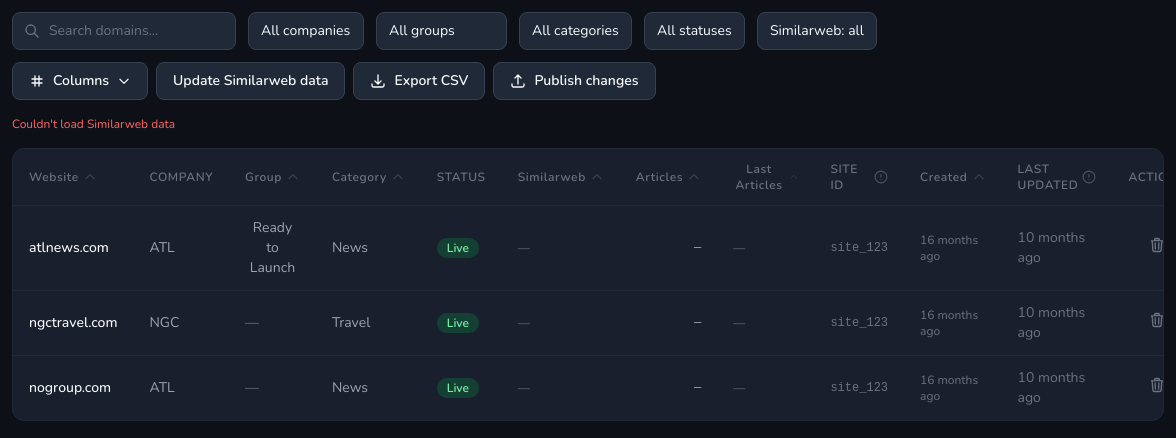
Test case: SitesTable — Group filter and Export CSV › narrows the table to sites in the selected group
expect the text "atlnews.com" is shown: met, box [13,206,134,290]
expect the text "ngctravel.com" is shown: met, box [13,290,134,356]
Select "Ready to Launch" in the dropdown named "Group filter" at {"x": 442, "y": 31}, box [376,12,507,50]
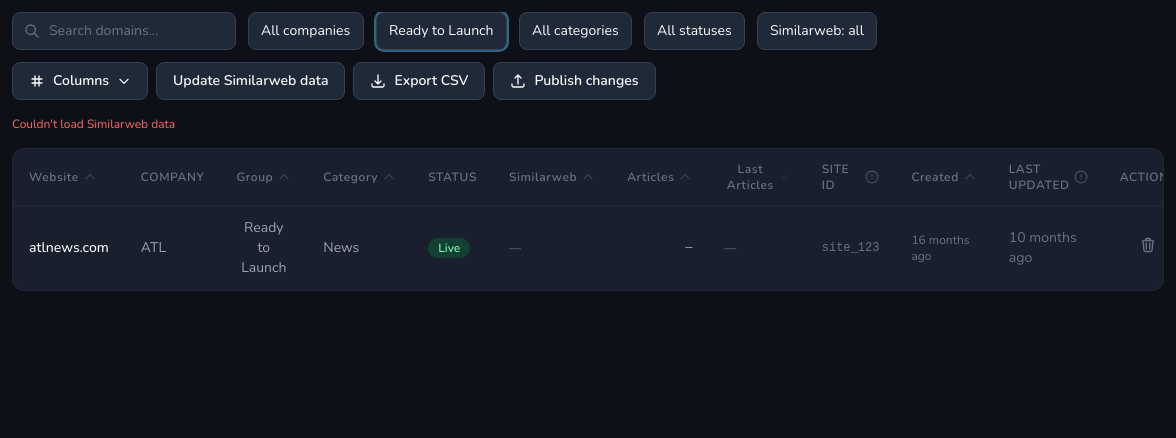
expect the text "atlnews.com" is shown: met, box [13,206,125,290]
expect the text "ngctravel.com" is gone: met
expect the text "nogroup.com" is gone: met
